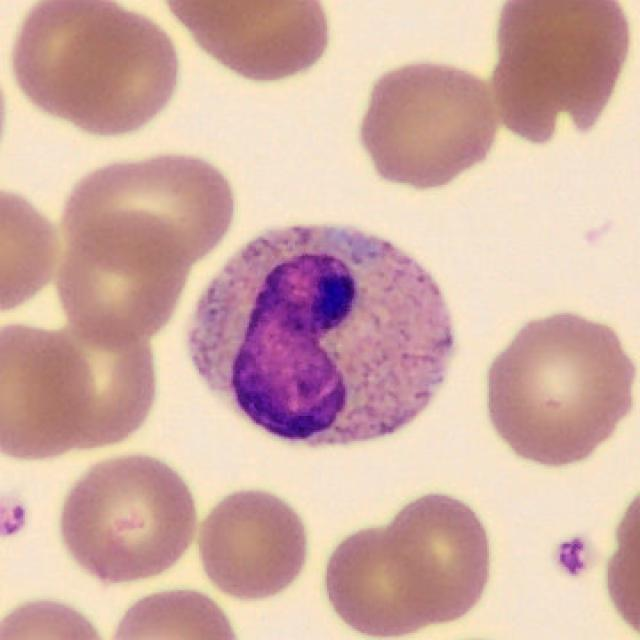Metamielocito: (188, 226, 455, 448)
